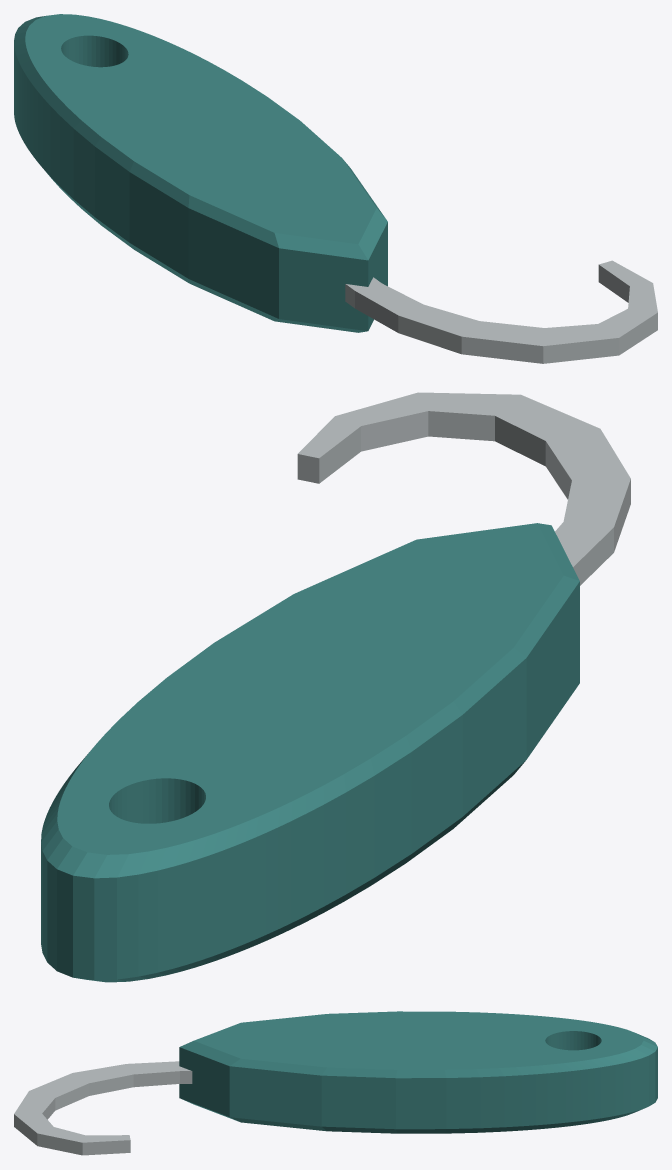
3 views of the same model, one above another, from view 1: azimuth 30°, elevation 25°; view 2: azimuth 150°, elevation 25°; view 3: azimuth 270°, elevation 25° (orthographic). The views are drawn at different scales.
Visible parts, largest first — view 1: WholeBevelledGripWithThroughHangingEye, WholeUnbranchedStemAndBluntReturnHook; view 2: WholeBevelledGripWithThroughHangingEye, WholeUnbranchedStemAndBluntReturnHook; view 3: WholeBevelledGripWithThroughHangingEye, WholeUnbranchedStemAndBluntReturnHook.
Boxes of the visible parts, box(x1,y1,x2,y2) form: WholeBevelledGripWithThroughHangingEye: box(14, 14, 387, 332); WholeUnbranchedStemAndBluntReturnHook: box(345, 260, 657, 363); WholeBevelledGripWithThroughHangingEye: box(41, 523, 579, 982); WholeUnbranchedStemAndBluntReturnHook: box(297, 392, 630, 585); WholeBevelledGripWithThroughHangingEye: box(179, 1011, 657, 1133); WholeUnbranchedStemAndBluntReturnHook: box(14, 1061, 192, 1155).
Size of the model in its own units: 0.0724 by 0.02 by 0.183.
